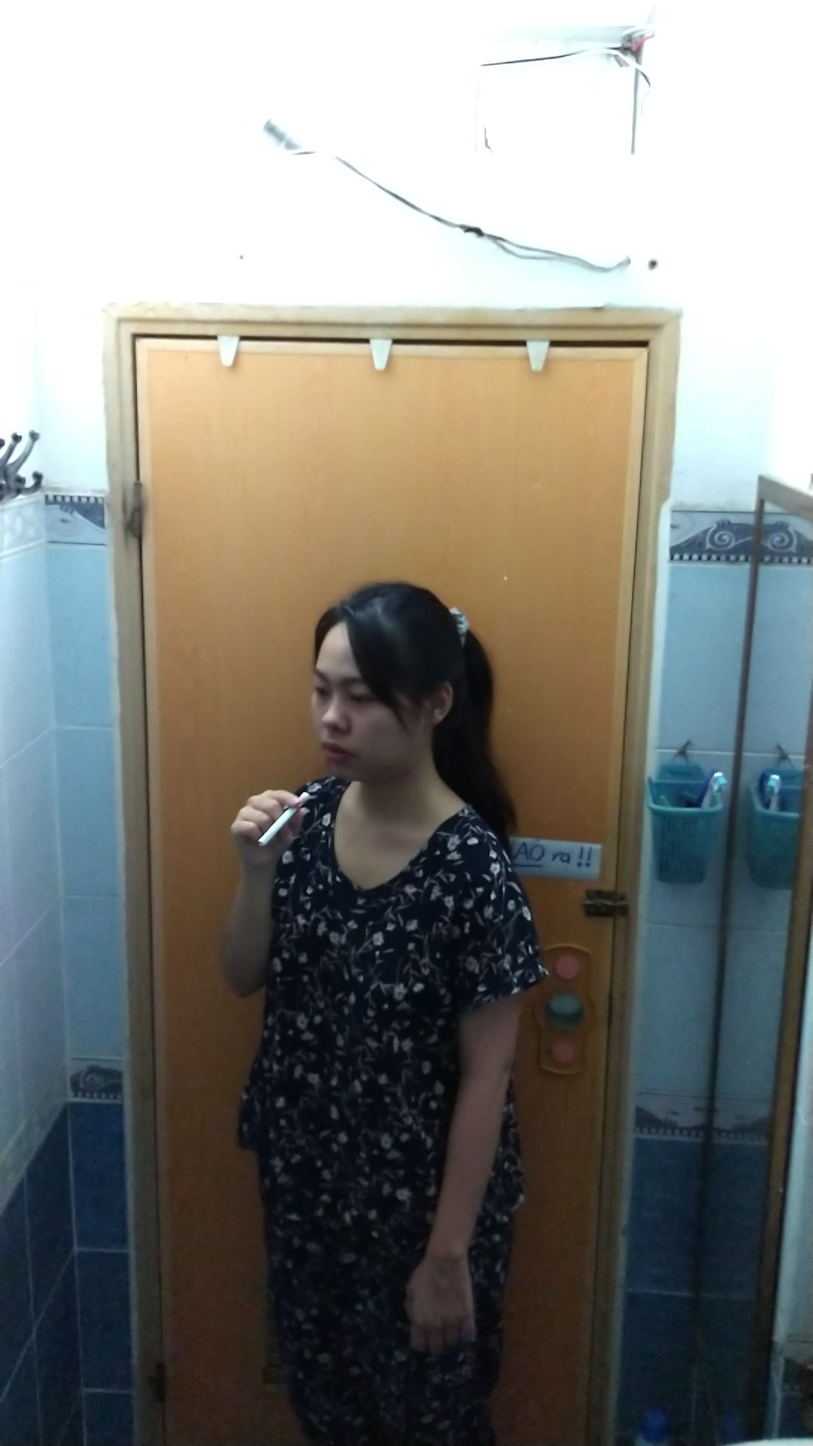cigarette: (252, 807, 298, 850)
person: (221, 569, 568, 1436)
